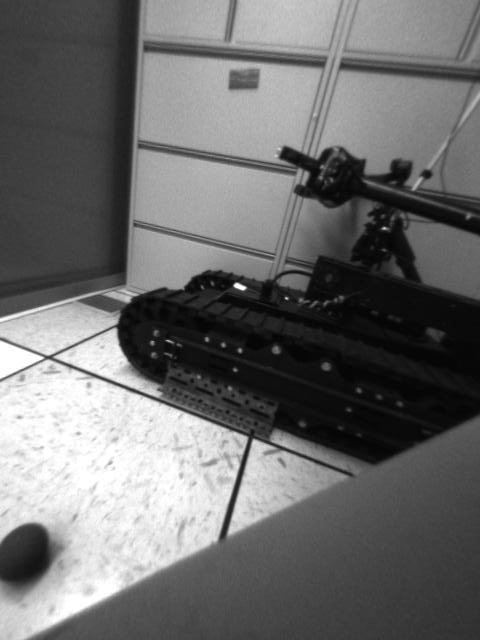dogtoy: (1, 514, 64, 588)
